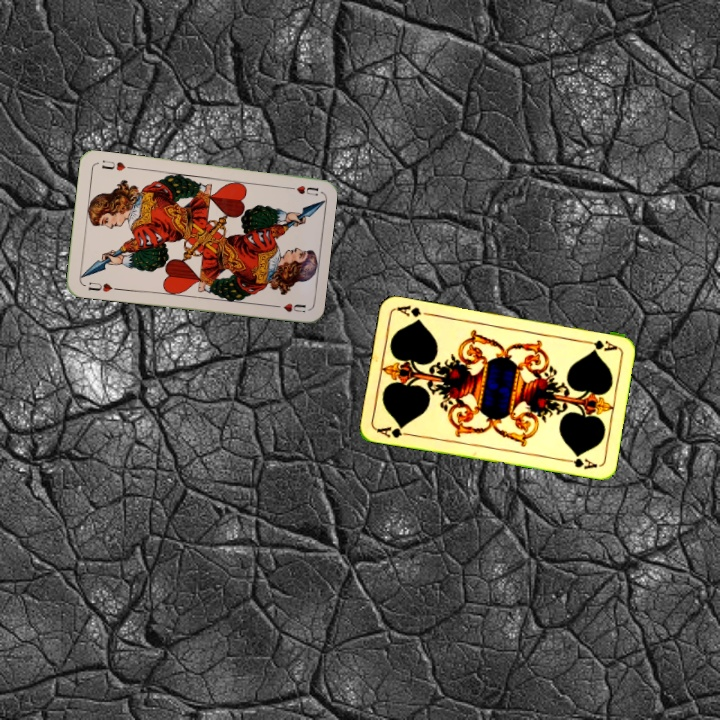GA: (579, 336, 620, 354), (374, 422, 414, 440)
HU: (281, 181, 321, 198), (84, 278, 121, 295)
